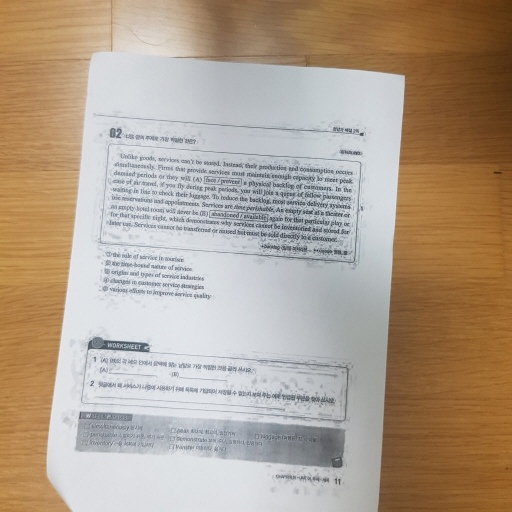Paper_2: (39, 40, 412, 512)
